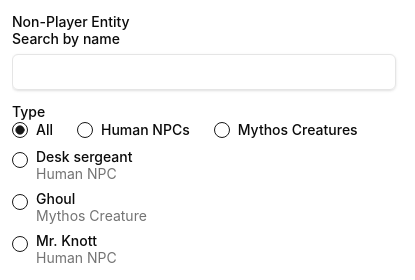
Test: NonPlayerEntityPicker › narrows by search and type, and announces the count after a pause, not on first load (SP-UX-51, SP-A11Y-32)
Click the radio button named "Human NPCs" next to "Human NPCs" at (85, 130), box [77,122,93,138]
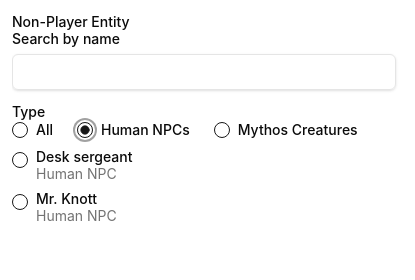
Type "des" into the field labelled "Search by name" at (204, 72), box [12,54,396,90]
Wait 500 ms
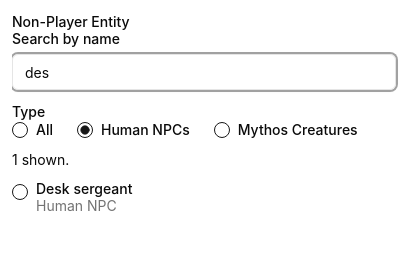
Check: the text "1 shown." is shown, box [12,151,69,168]
